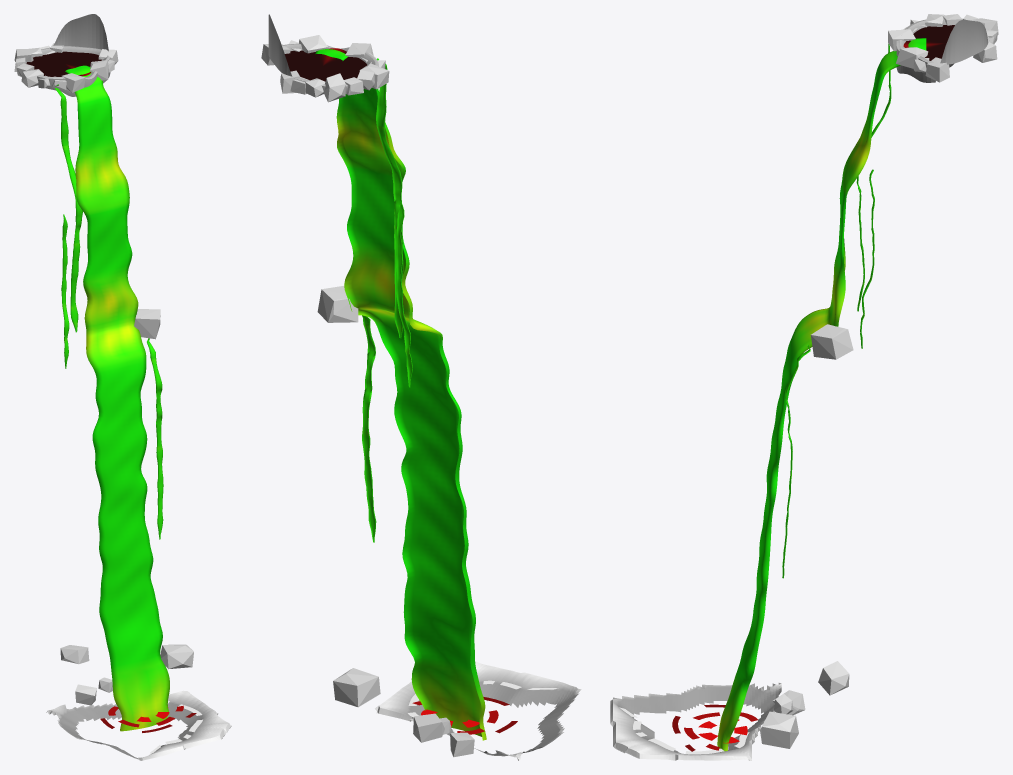
Rendered from WF3_L02_Waterfall.fbx.
The picture shows the model from 3 angles, left to right: view 1: azimuth 30°, elevation 25°; view 2: azimuth 150°, elevation 25°; view 3: azimuth 270°, elevation 25°; orthographic projection. The views are drawn at different scales.
Parts seen in each view (by area): view 1: WATER_Lower_WF3_Fall, BANK_WF3_Plunge, WATER_Upper_WF3_Trickles, ROCKZ_WF3_Foot, BED_WF3_Source, ROCKZ_WF3_Rim, WATER_Pond_WF3_Source, WATER_Pond_WF3_PlungeRing; view 2: WATER_Lower_WF3_Fall, BANK_WF3_Plunge, WATER_Upper_WF3_Trickles, ROCKZ_WF3_Foot, ROCKZ_WF3_Rim, WATER_Pond_WF3_Source, BED_WF3_Source, WATER_Pond_WF3_PlungeRing; view 3: WATER_Lower_WF3_Fall, BANK_WF3_Plunge, ROCKZ_WF3_Foot, ROCKZ_WF3_Rim, BED_WF3_Source, WATER_Upper_WF3_Trickles, WATER_Pond_WF3_PlungeRing, WATER_Pond_WF3_Source.
Boxes of the visible parts, bbox=[...] form: WATER_Lower_WF3_Fall: bbox=[65, 65, 170, 731]; BANK_WF3_Plunge: bbox=[46, 690, 231, 760]; WATER_Upper_WF3_Trickles: bbox=[55, 84, 163, 539]; ROCKZ_WF3_Foot: bbox=[60, 309, 193, 705]; BED_WF3_Source: bbox=[19, 14, 110, 96]; ROCKZ_WF3_Rim: bbox=[14, 43, 118, 92]; WATER_Pond_WF3_Source: bbox=[26, 51, 101, 76]; WATER_Pond_WF3_PlungeRing: bbox=[100, 705, 196, 732]; WATER_Lower_WF3_Fall: bbox=[315, 49, 486, 740]; BANK_WF3_Plunge: bbox=[375, 661, 581, 760]; WATER_Upper_WF3_Trickles: bbox=[362, 58, 412, 542]; ROCKZ_WF3_Foot: bbox=[317, 286, 474, 757]; ROCKZ_WF3_Rim: bbox=[261, 35, 389, 102]; WATER_Pond_WF3_Source: bbox=[284, 48, 367, 81]; BED_WF3_Source: bbox=[268, 14, 378, 93]; WATER_Pond_WF3_PlungeRing: bbox=[412, 697, 517, 734]; WATER_Lower_WF3_Fall: bbox=[717, 38, 926, 751]; BANK_WF3_Plunge: bbox=[610, 683, 781, 760]; ROCKZ_WF3_Foot: bbox=[760, 324, 853, 748]; ROCKZ_WF3_Rim: bbox=[888, 14, 998, 82]; BED_WF3_Source: bbox=[896, 18, 989, 82]; WATER_Upper_WF3_Trickles: bbox=[782, 43, 891, 578]; WATER_Pond_WF3_PlungeRing: bbox=[672, 704, 758, 751]; WATER_Pond_WF3_Source: bbox=[903, 25, 954, 60].
Size of the model in its own units: 4.79 by 19.64 by 9.2.
